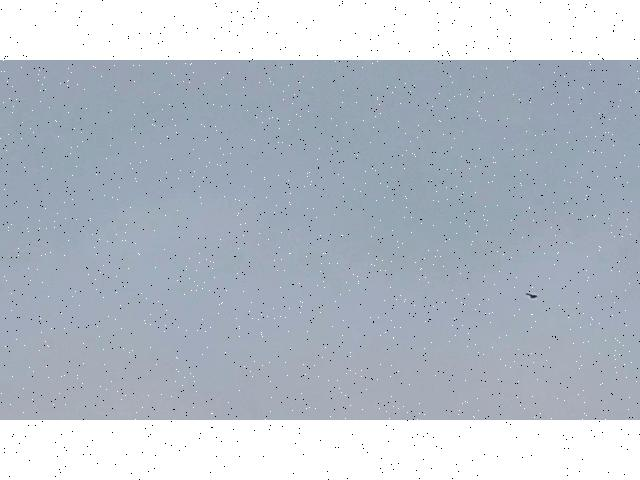Anti-Drone: (524, 291, 540, 301)
